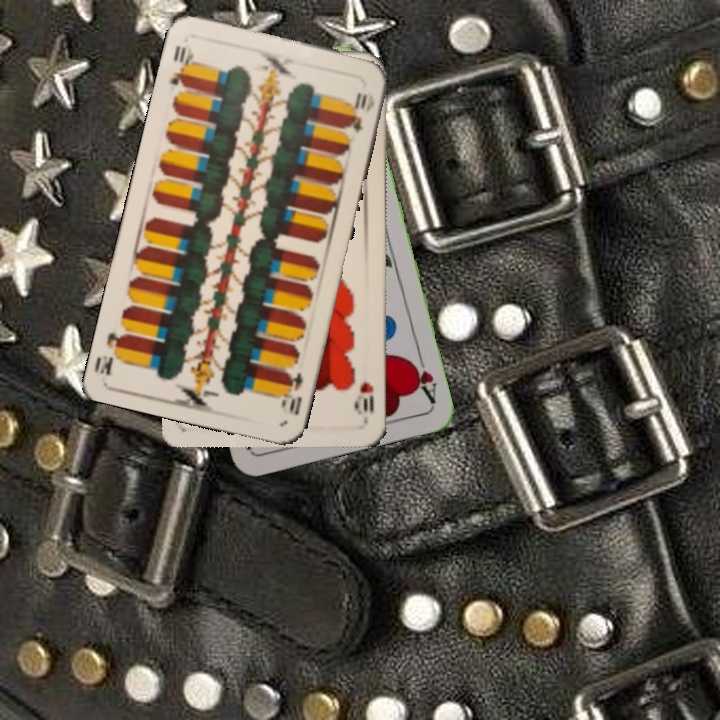E10: (166, 40, 196, 90), (277, 368, 306, 417)
H10: (353, 378, 377, 423)
HA: (406, 348, 440, 406)
